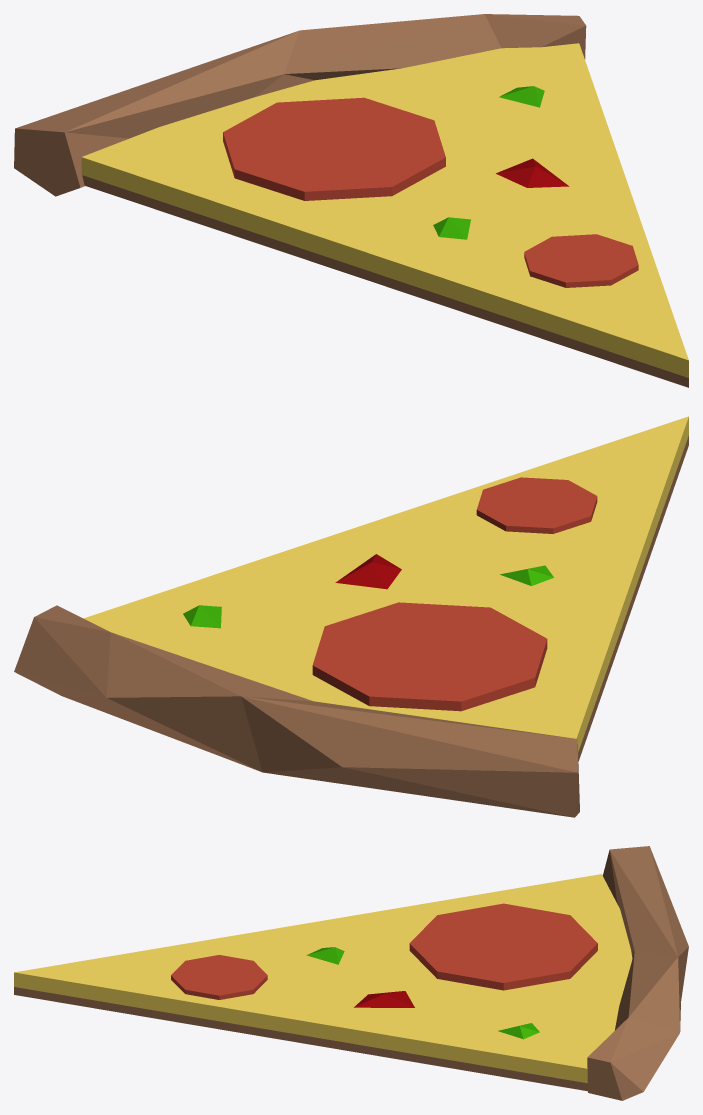
File: Pizza_Slice.fbx
The picture shows the model from 3 angles, top to bottom: view 1: azimuth 30°, elevation 25°; view 2: azimuth 150°, elevation 25°; view 3: azimuth 270°, elevation 25°; orthographic projection. The views are drawn at different scales.
Visible parts, largest first — view 1: Pizza_Slice; view 2: Pizza_Slice; view 3: Pizza_Slice.
Part boxes in pixels (x1=…): Pizza_Slice: x1=14, y1=14, x2=688, y2=387; Pizza_Slice: x1=14, y1=416, x2=688, y2=817; Pizza_Slice: x1=14, y1=846, x2=688, y2=1100.
Size of the model in its own units: 32.08 by 3.97 by 42.08.
